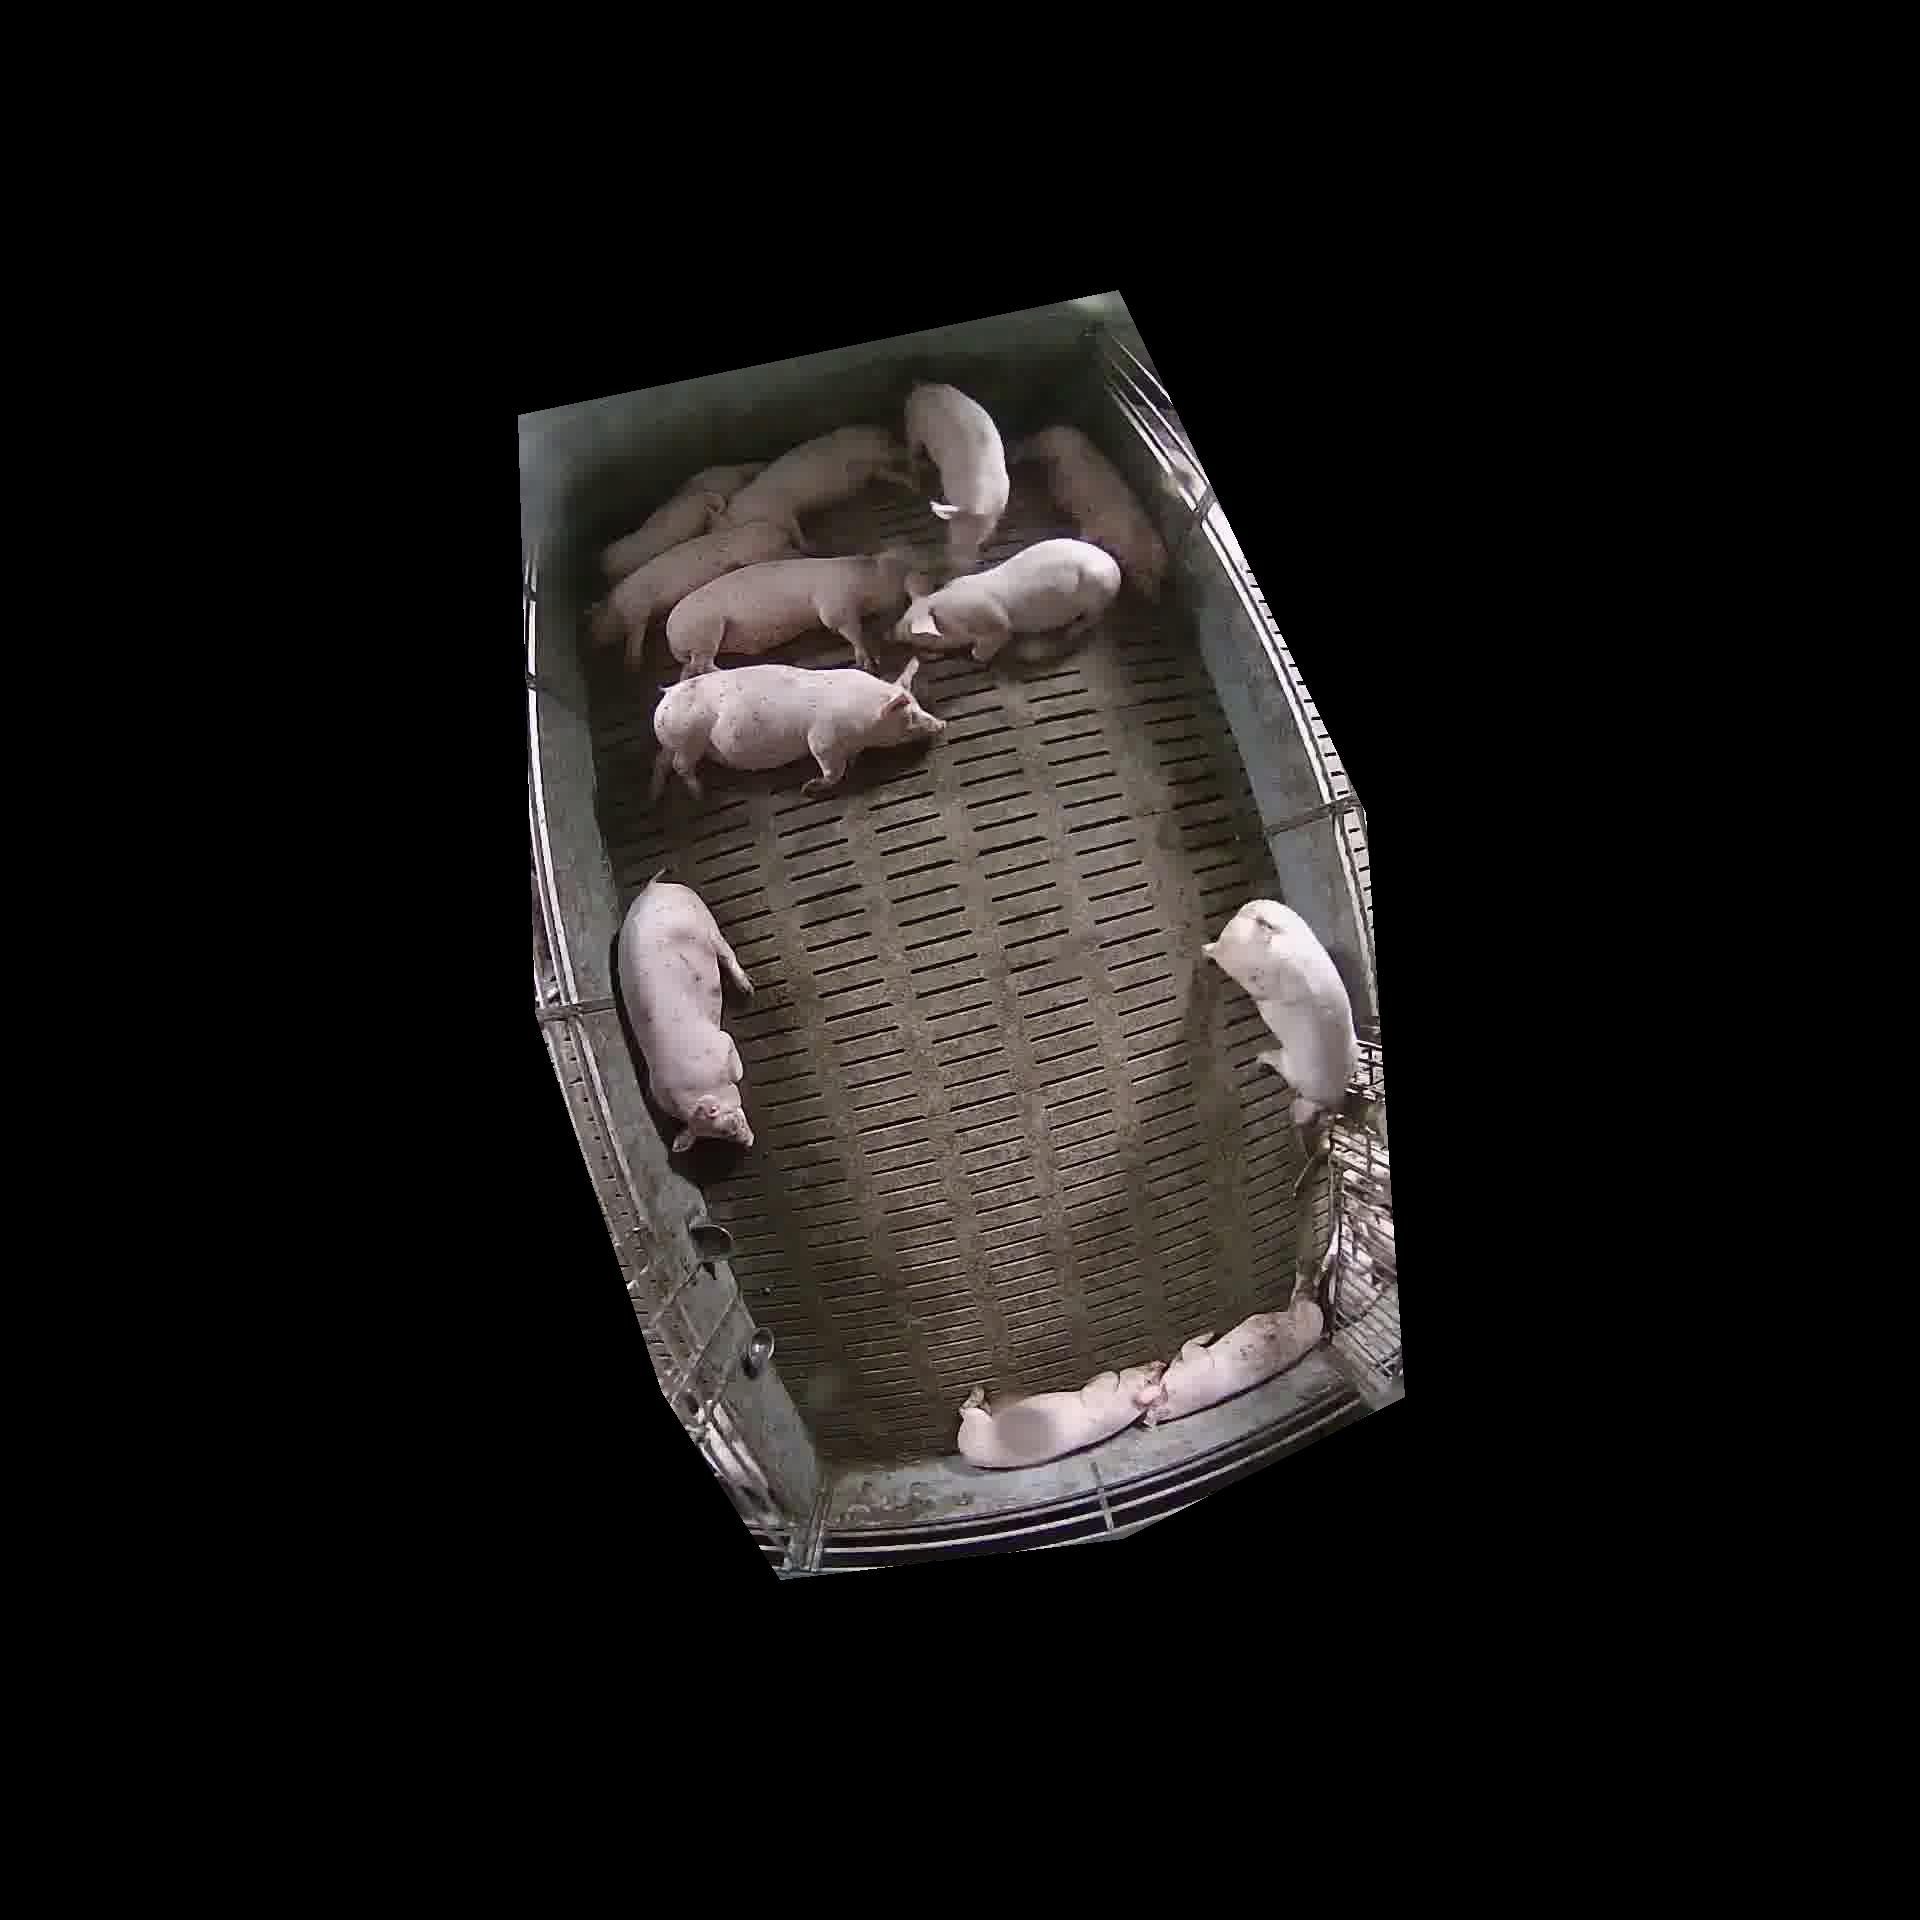pig: (651, 659, 942, 798), (617, 879, 753, 1152), (1204, 898, 1356, 1124), (666, 549, 927, 677), (589, 520, 796, 666), (895, 538, 1120, 661), (1011, 425, 1167, 600), (716, 425, 900, 547), (1146, 1298, 1322, 1422), (956, 1363, 1162, 1466), (905, 383, 1009, 573), (600, 462, 761, 584)
